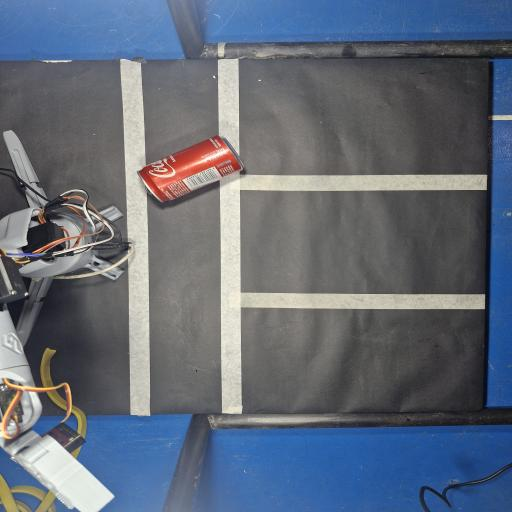lata: (138, 135, 243, 201)
